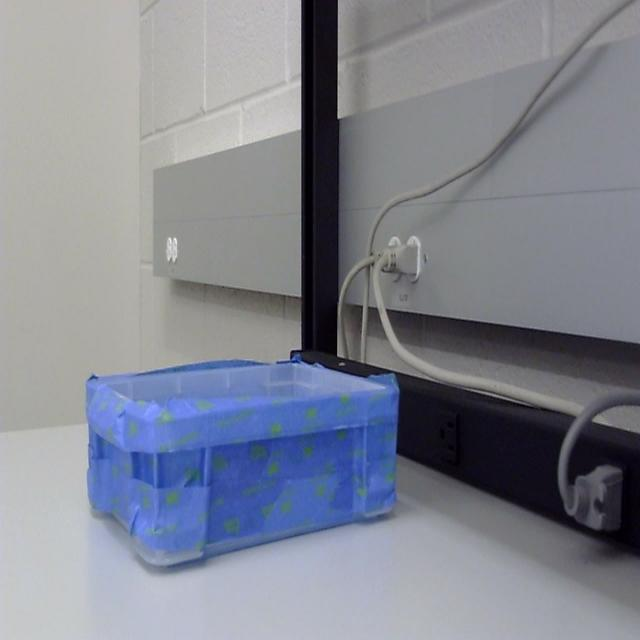bucket: (85, 356, 400, 574)
